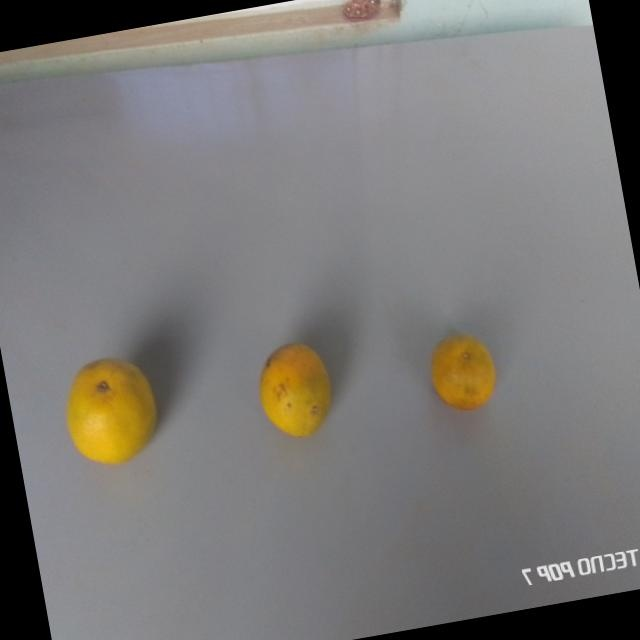agrume: (54, 347, 170, 473), (249, 328, 343, 448), (421, 327, 509, 427)
